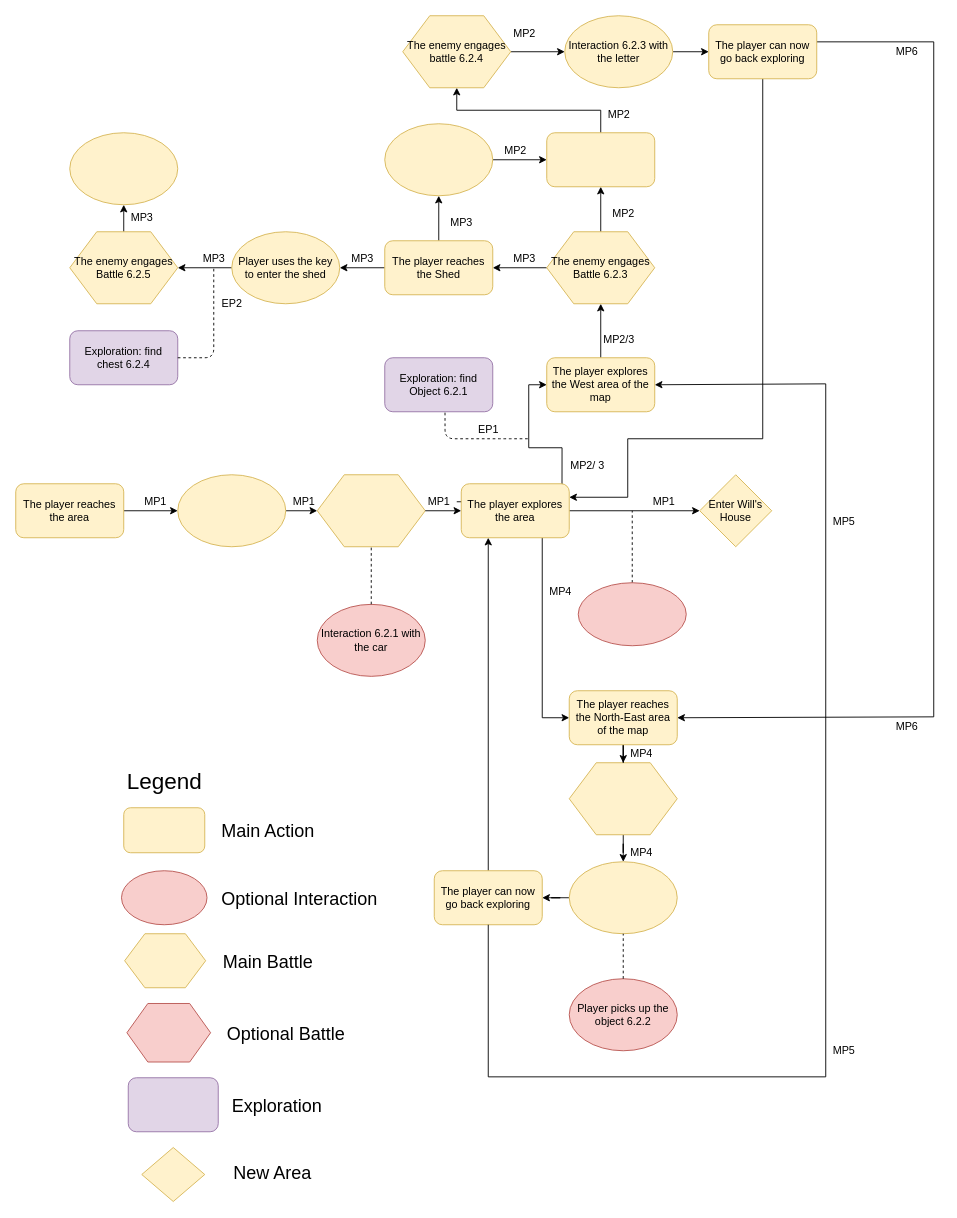
Image size: 957x1218. Some labels were removed from this diagram. Each missing label, with the box of its shape:
Cutscene 6.2.1, "The Father's warning": (177, 474, 286, 547)
Interaction 6.2.2 with the hammock: (577, 582, 686, 646)
Interaction 6.2.4 with the letter.: (568, 861, 677, 934)
Interaction 6.2.5 with the letter: (69, 132, 178, 205)
Player doesn't have the key to enter: (384, 123, 493, 196)
The enemy engages Battle 6.2.1: (316, 474, 425, 547)
The enemy engages Battle 6.2.2: (568, 762, 677, 835)
The player reaches the North-West area of the map: (546, 132, 655, 187)
